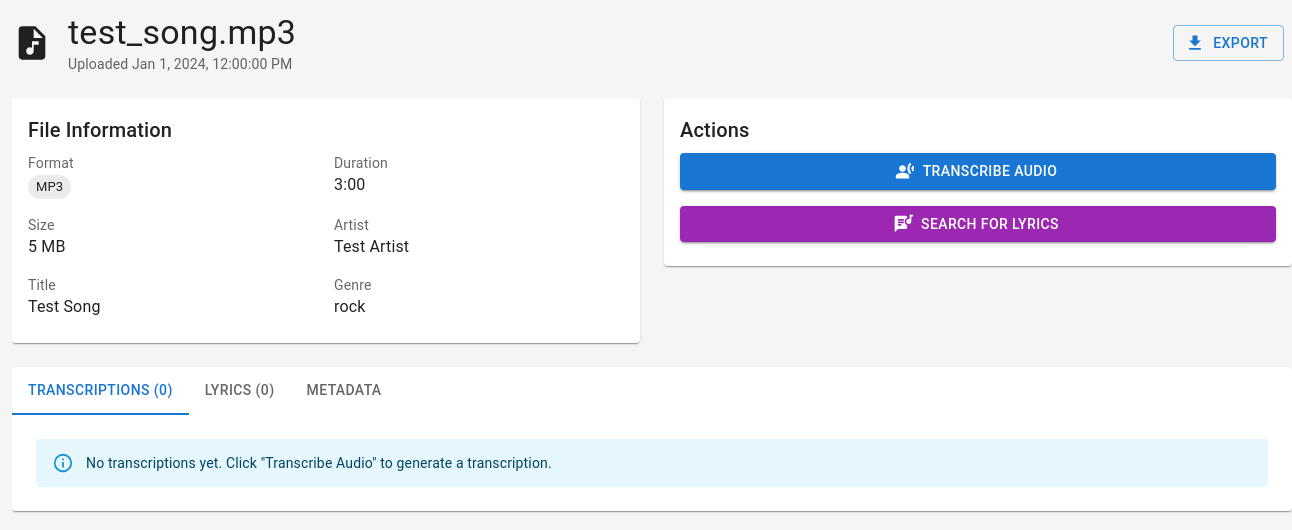
Test case: FileDetails Component › handles export menu
The image size is (1292, 530).
Click the button "Export" at (1229, 43), box 1173,25 -> 1284,61
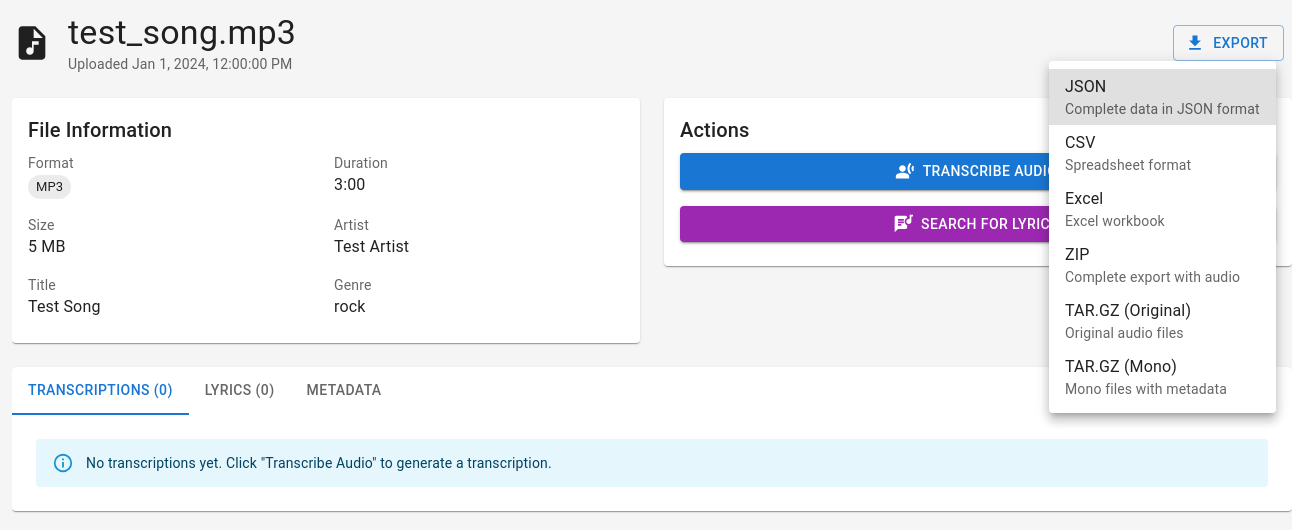
Check: the text "JSON" is shown, box 1065,77 -> 1106,96
Check: the text "CSV" is shown, box 1065,133 -> 1096,152
Check: the text "Excel" is shown, box 1065,189 -> 1103,208
